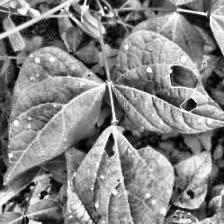Bean Rust: (4, 42, 106, 174), (108, 32, 221, 136), (74, 125, 174, 224), (58, 198, 130, 224)
